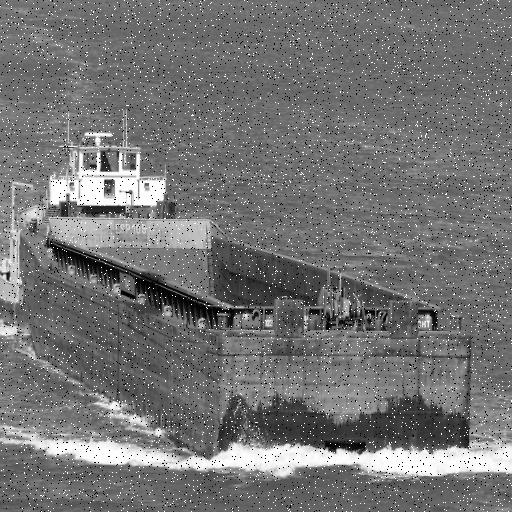tugboat: (1, 108, 187, 356)
